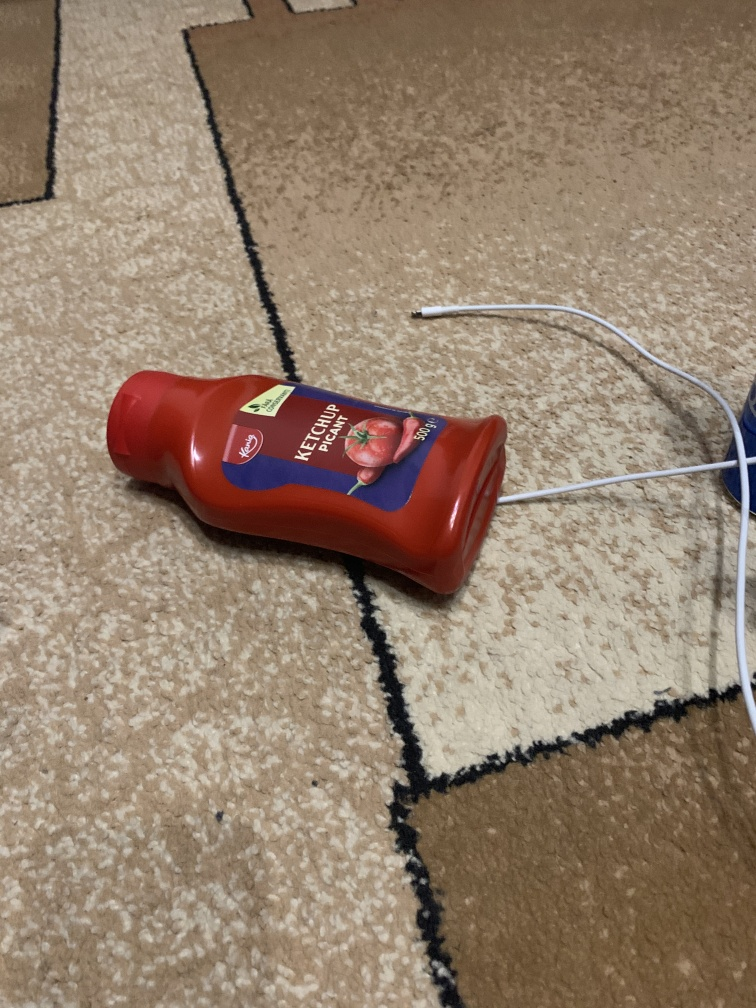ketchup: (103, 367, 514, 599)
